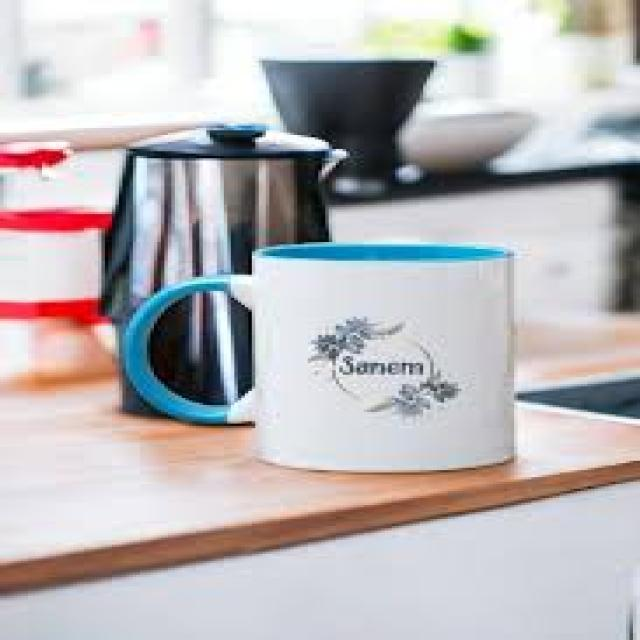taza: (124, 242, 514, 476)
